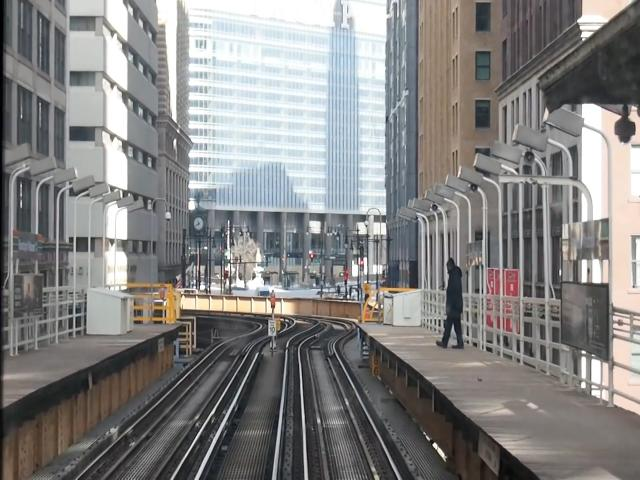signal light: (359, 246, 367, 273)
